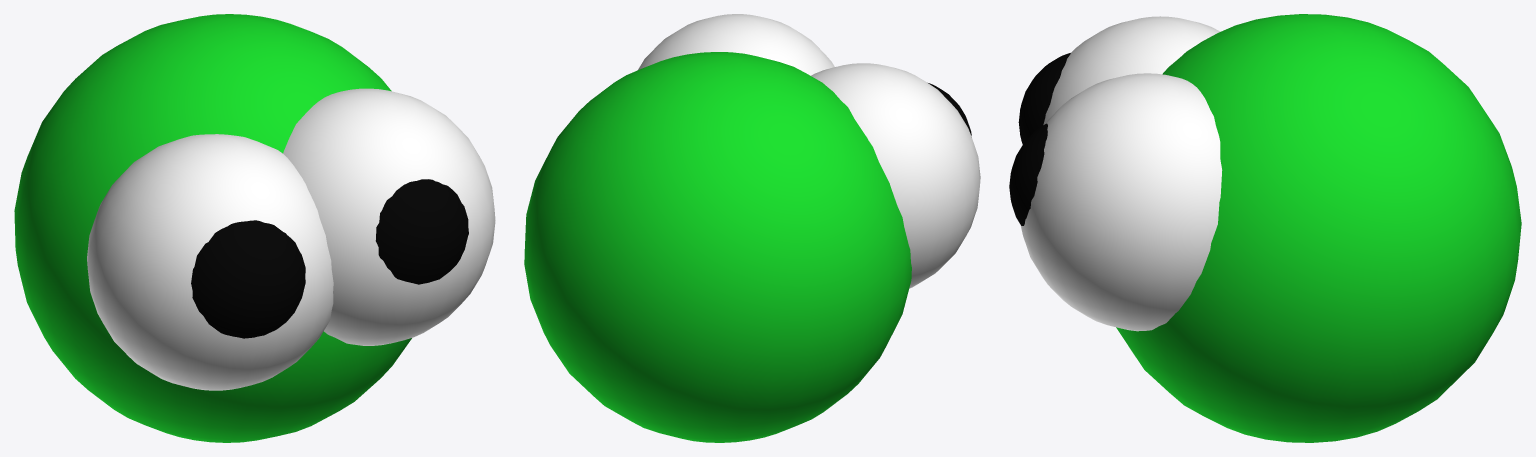
File: bola_peluda.glb
The picture shows the model from 3 angles, left to right: view 1: azimuth 30°, elevation 25°; view 2: azimuth 150°, elevation 25°; view 3: azimuth 270°, elevation 25°; orthographic projection. The views are drawn at different scales.
Parts seen in each view (by area): view 1: Sphere_2, Sphere.002_5, Sphere.004_7, Sphere.001_8, Sphere.003_6; view 2: Sphere_2, Sphere.002_5, Sphere.004_7; view 3: Sphere_2, Sphere.004_7, Sphere.002_5, Sphere.003_6, Sphere.001_8.
Boxes of the visible parts, x1=… form: Sphere_2: x1=14, y1=14, x2=411, y2=442; Sphere.002_5: x1=87, y1=134, x2=333, y2=390; Sphere.004_7: x1=283, y1=88, x2=495, y2=345; Sphere.001_8: x1=191, y1=220, x2=305, y2=338; Sphere.003_6: x1=375, y1=179, x2=468, y2=284; Sphere_2: x1=524, y1=52, x2=911, y2=442; Sphere.002_5: x1=811, y1=63, x2=980, y2=288; Sphere.004_7: x1=638, y1=14, x2=834, y2=75; Sphere_2: x1=1116, y1=14, x2=1521, y2=442; Sphere.004_7: x1=1020, y1=73, x2=1222, y2=331; Sphere.002_5: x1=1043, y1=16, x2=1220, y2=124; Sphere.003_6: x1=1009, y1=123, x2=1047, y2=225; Sphere.001_8: x1=1018, y1=53, x2=1070, y2=144.
Bounding box in the file's own units: 2.06 × 1.99 × 2.38.
